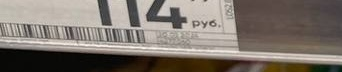1d: (0, 20, 146, 44)
